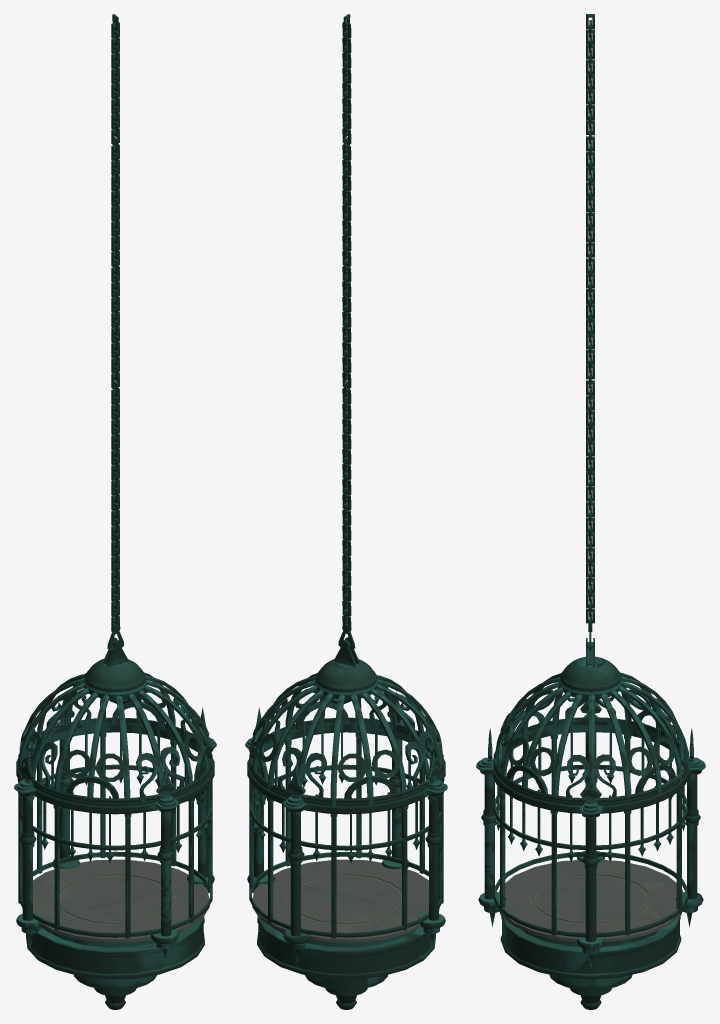
The model's file is RoundElevator.fbx.
3 views of the same model, side by side, from view 1: azimuth 30°, elevation 25°; view 2: azimuth 150°, elevation 25°; view 3: azimuth 270°, elevation 25° (orthographic).
Parts seen in each view (by area): view 1: elevatorInteriorFloor_uv1, downSideElevator_uv2, upperRing2_uv2, centralOrnament_uv2, floorRingDetail_uv2, columnLateral3_uv2, columnLateral4_uv2, Door, elevatorDoorRing2, upperRing1_uv2, thinColumn5, thinColumn6 (+14 smaller); view 2: elevatorInteriorFloor_uv1, downSideElevator_uv2, upperRing2_uv2, centralOrnament_uv2, floorRingDetail_uv2, columnLateral_uv2, elevatorDoorRing2, columnLateral3_uv2, Door, upperRing1_uv2, thinColumn8, cageBar10_uv2 (+14 smaller); view 3: elevatorInteriorFloor_uv1, downSideElevator_uv2, upperRing2_uv2, centralOrnament_uv2, floorRingDetail_uv2, columnLateral2_uv2, Door, elevatorDoorRing2, columnLateral_uv2, columnLateral4_uv2, upperRing1_uv2, cageBar06_uv2 (+9 smaller).
Boxes of the visible parts, box(x1,y1,x2,y2) form: elevatorInteriorFloor_uv1: box(22, 859, 209, 942); downSideElevator_uv2: box(26, 916, 204, 1009); upperRing2_uv2: box(16, 725, 214, 814); centralOrnament_uv2: box(83, 659, 147, 699); floorRingDetail_uv2: box(19, 851, 212, 937); columnLateral3_uv2: box(19, 795, 36, 920); columnLateral4_uv2: box(157, 812, 174, 936); Door: box(18, 717, 212, 802); elevatorDoorRing2: box(19, 764, 212, 850); upperRing1_uv2: box(18, 722, 212, 806); thinColumn5: box(124, 813, 131, 938); thinColumn6: box(53, 805, 60, 930); elevatorInteriorFloor_uv1: box(252, 859, 439, 942); downSideElevator_uv2: box(257, 916, 435, 1009); upperRing2_uv2: box(247, 725, 445, 814); centralOrnament_uv2: box(314, 659, 378, 699); floorRingDetail_uv2: box(249, 851, 442, 937); columnLateral_uv2: box(287, 812, 304, 936); elevatorDoorRing2: box(249, 764, 442, 850); columnLateral3_uv2: box(425, 796, 442, 920); Door: box(249, 717, 443, 803); upperRing1_uv2: box(249, 722, 443, 806); thinColumn8: box(330, 813, 337, 938); cageBar10_uv2: box(330, 695, 344, 806); elevatorInteriorFloor_uv1: box(498, 860, 683, 941); downSideElevator_uv2: box(500, 916, 681, 1009); upperRing2_uv2: box(491, 724, 690, 813); centralOrnament_uv2: box(559, 656, 622, 699); floorRingDetail_uv2: box(493, 851, 688, 937); columnLateral2_uv2: box(582, 817, 599, 941); Door: box(493, 717, 688, 802); elevatorDoorRing2: box(493, 764, 688, 849); columnLateral_uv2: box(684, 774, 700, 899); columnLateral4_uv2: box(481, 774, 496, 899); upperRing1_uv2: box(493, 721, 688, 805); cageBar06_uv2: box(601, 693, 631, 802).
Bounding box in the file's own units: 9.47 × 45.15 × 9.47.
